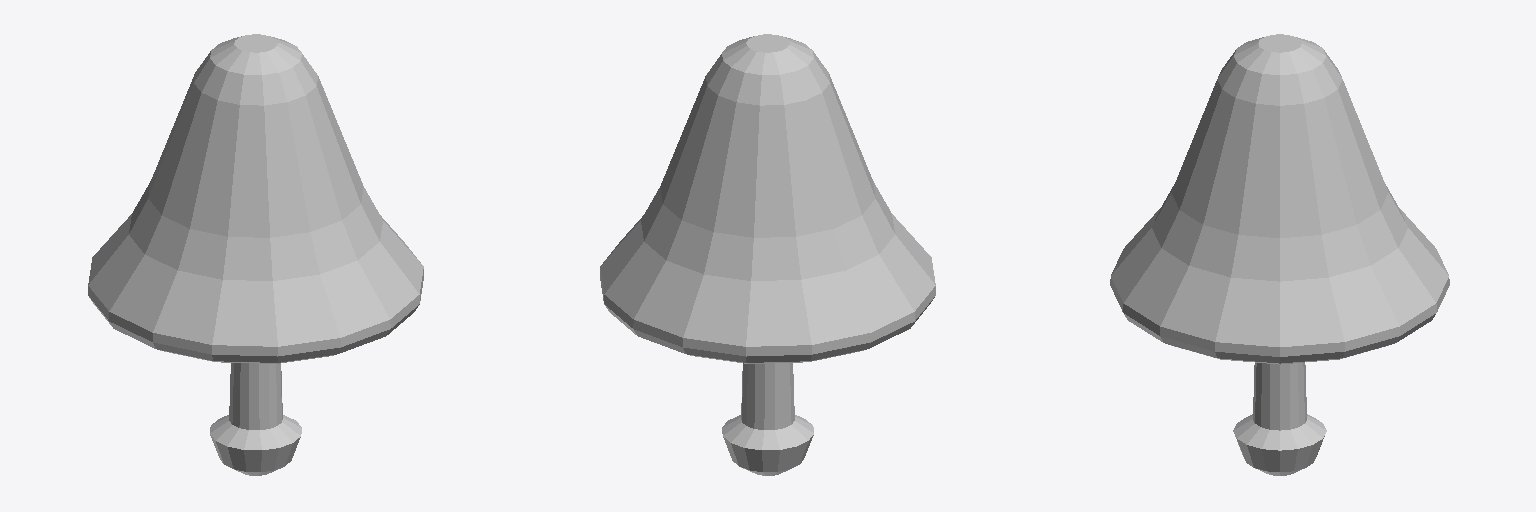
The model's file is mushroom.obj.
3 views of the same model, side by side, from view 1: azimuth 30°, elevation 25°; view 2: azimuth 150°, elevation 25°; view 3: azimuth 270°, elevation 25° (orthographic).
Parts seen in each view (by area): view 1: Cylinder1; view 2: Cylinder1; view 3: Cylinder1.
Boxes of the visible parts, <box> form: Cylinder1: <box>88,34,423,475</box>; Cylinder1: <box>600,34,935,475</box>; Cylinder1: <box>1110,34,1449,475</box>.
Size of the model in its own units: 2.74 by 3.79 by 2.74.